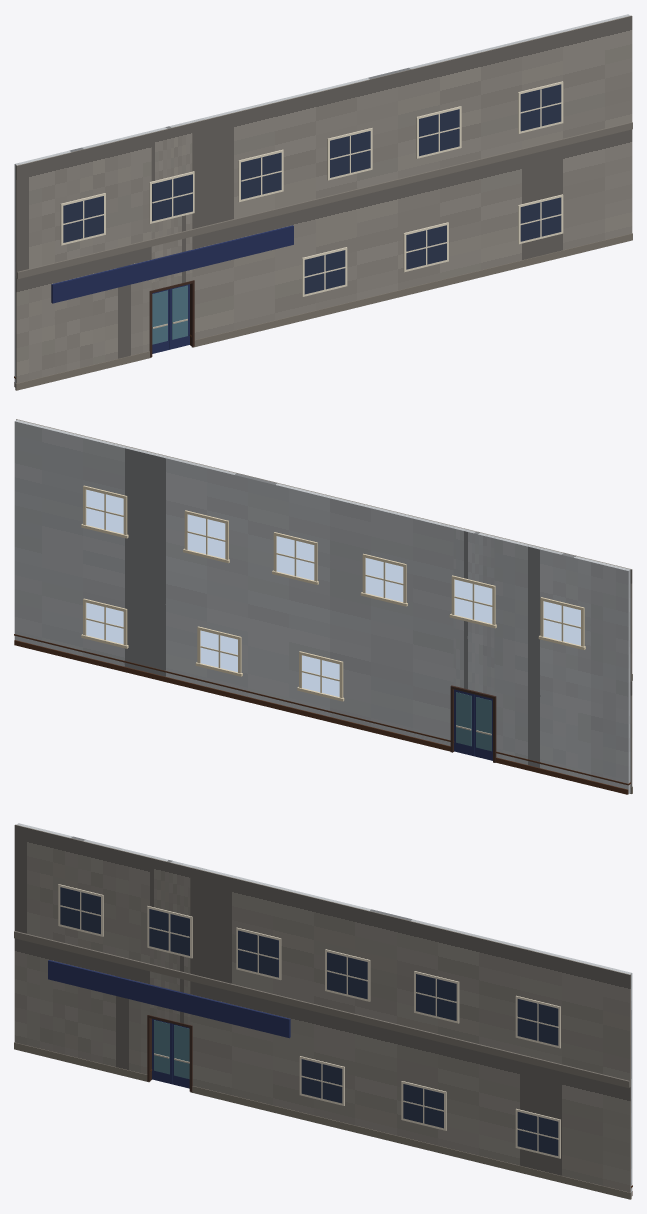
The model's file is high_front.glb.
3 views of the same model, one above another, from view 1: azimuth 30°, elevation 25°; view 2: azimuth 150°, elevation 25°; view 3: azimuth 330°, elevation 25° (orthographic).
Visible parts, largest first — view 1: Box8, Box6, Box122, Box22, Box10, Box9, Box112, Box90, Box79, Box101, Box57, Box68 (+8 smaller); view 2: Box3, Box1, Box5, Box4, Box125, Box86, Box97, Box108, Box75, Box119, Box64, Box53 (+8 smaller); view 3: Box8, Box6, Box122, Box22, Box10, Box9, Box3, Box112, Box68, Box79, Box57, Box101 (+7 smaller).
Boxes of the visible parts, box(x1,y1,x2,y2) form: Box8: box(191, 15, 632, 346); Box6: box(16, 133, 151, 383); Box122: box(17, 122, 632, 278); Box22: box(51, 225, 293, 303); Box10: box(151, 123, 192, 290); Box9: box(192, 233, 632, 347); Box112: box(520, 84, 561, 131); Box90: box(330, 131, 370, 177); Box79: box(241, 152, 281, 199); Box101: box(419, 109, 459, 156); Box57: box(63, 196, 103, 242); Box68: box(152, 174, 192, 221); Box3: box(14, 420, 455, 740); Box1: box(494, 537, 630, 793); Box5: box(453, 527, 496, 695); Box4: box(14, 640, 450, 751); Box125: box(15, 638, 450, 746); Box86: box(365, 558, 403, 601); Box97: box(276, 536, 314, 580); Box108: box(187, 514, 225, 558); Box75: box(454, 579, 492, 623); Box119: box(86, 489, 123, 533); Box64: box(543, 601, 580, 645); Box53: box(86, 602, 123, 644); Box8: box(190, 867, 630, 1192); Box6: box(14, 824, 149, 1081); Box122: box(14, 931, 629, 1087); Box22: box(48, 960, 290, 1038); Box10: box(150, 857, 190, 1024); Box9: box(190, 1086, 631, 1199); Box3: box(191, 866, 632, 1196); Box112: box(517, 999, 558, 1045); Box68: box(149, 909, 189, 955); Box79: box(238, 930, 278, 977); Box57: box(60, 887, 100, 934); Box101: box(416, 974, 456, 1020).
Bounding box in the file's own units: 24.27 × 8.44 × 0.385.
13 materials, 2 textured.
